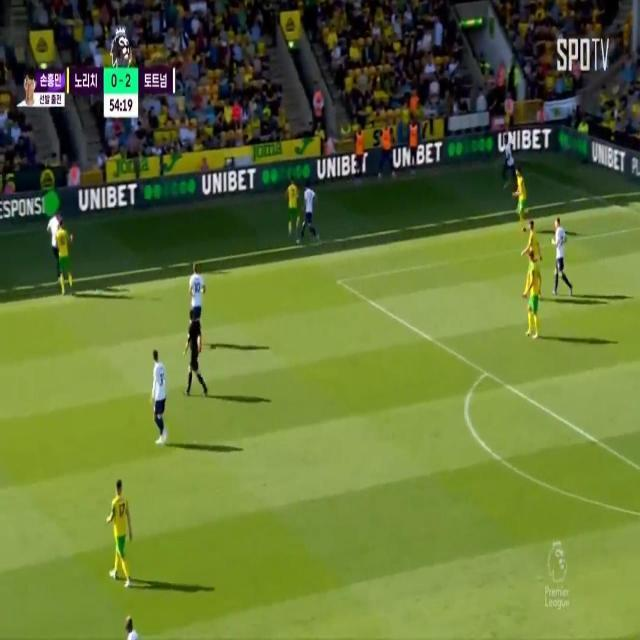player: (148, 348, 169, 446), (55, 211, 73, 289), (113, 477, 126, 581), (523, 217, 537, 295), (525, 254, 539, 332), (189, 261, 205, 327), (304, 181, 319, 247), (47, 208, 62, 268), (554, 220, 565, 295), (503, 126, 515, 194), (288, 174, 299, 248), (517, 167, 528, 230), (124, 607, 138, 640)
referee: (185, 302, 208, 401)
